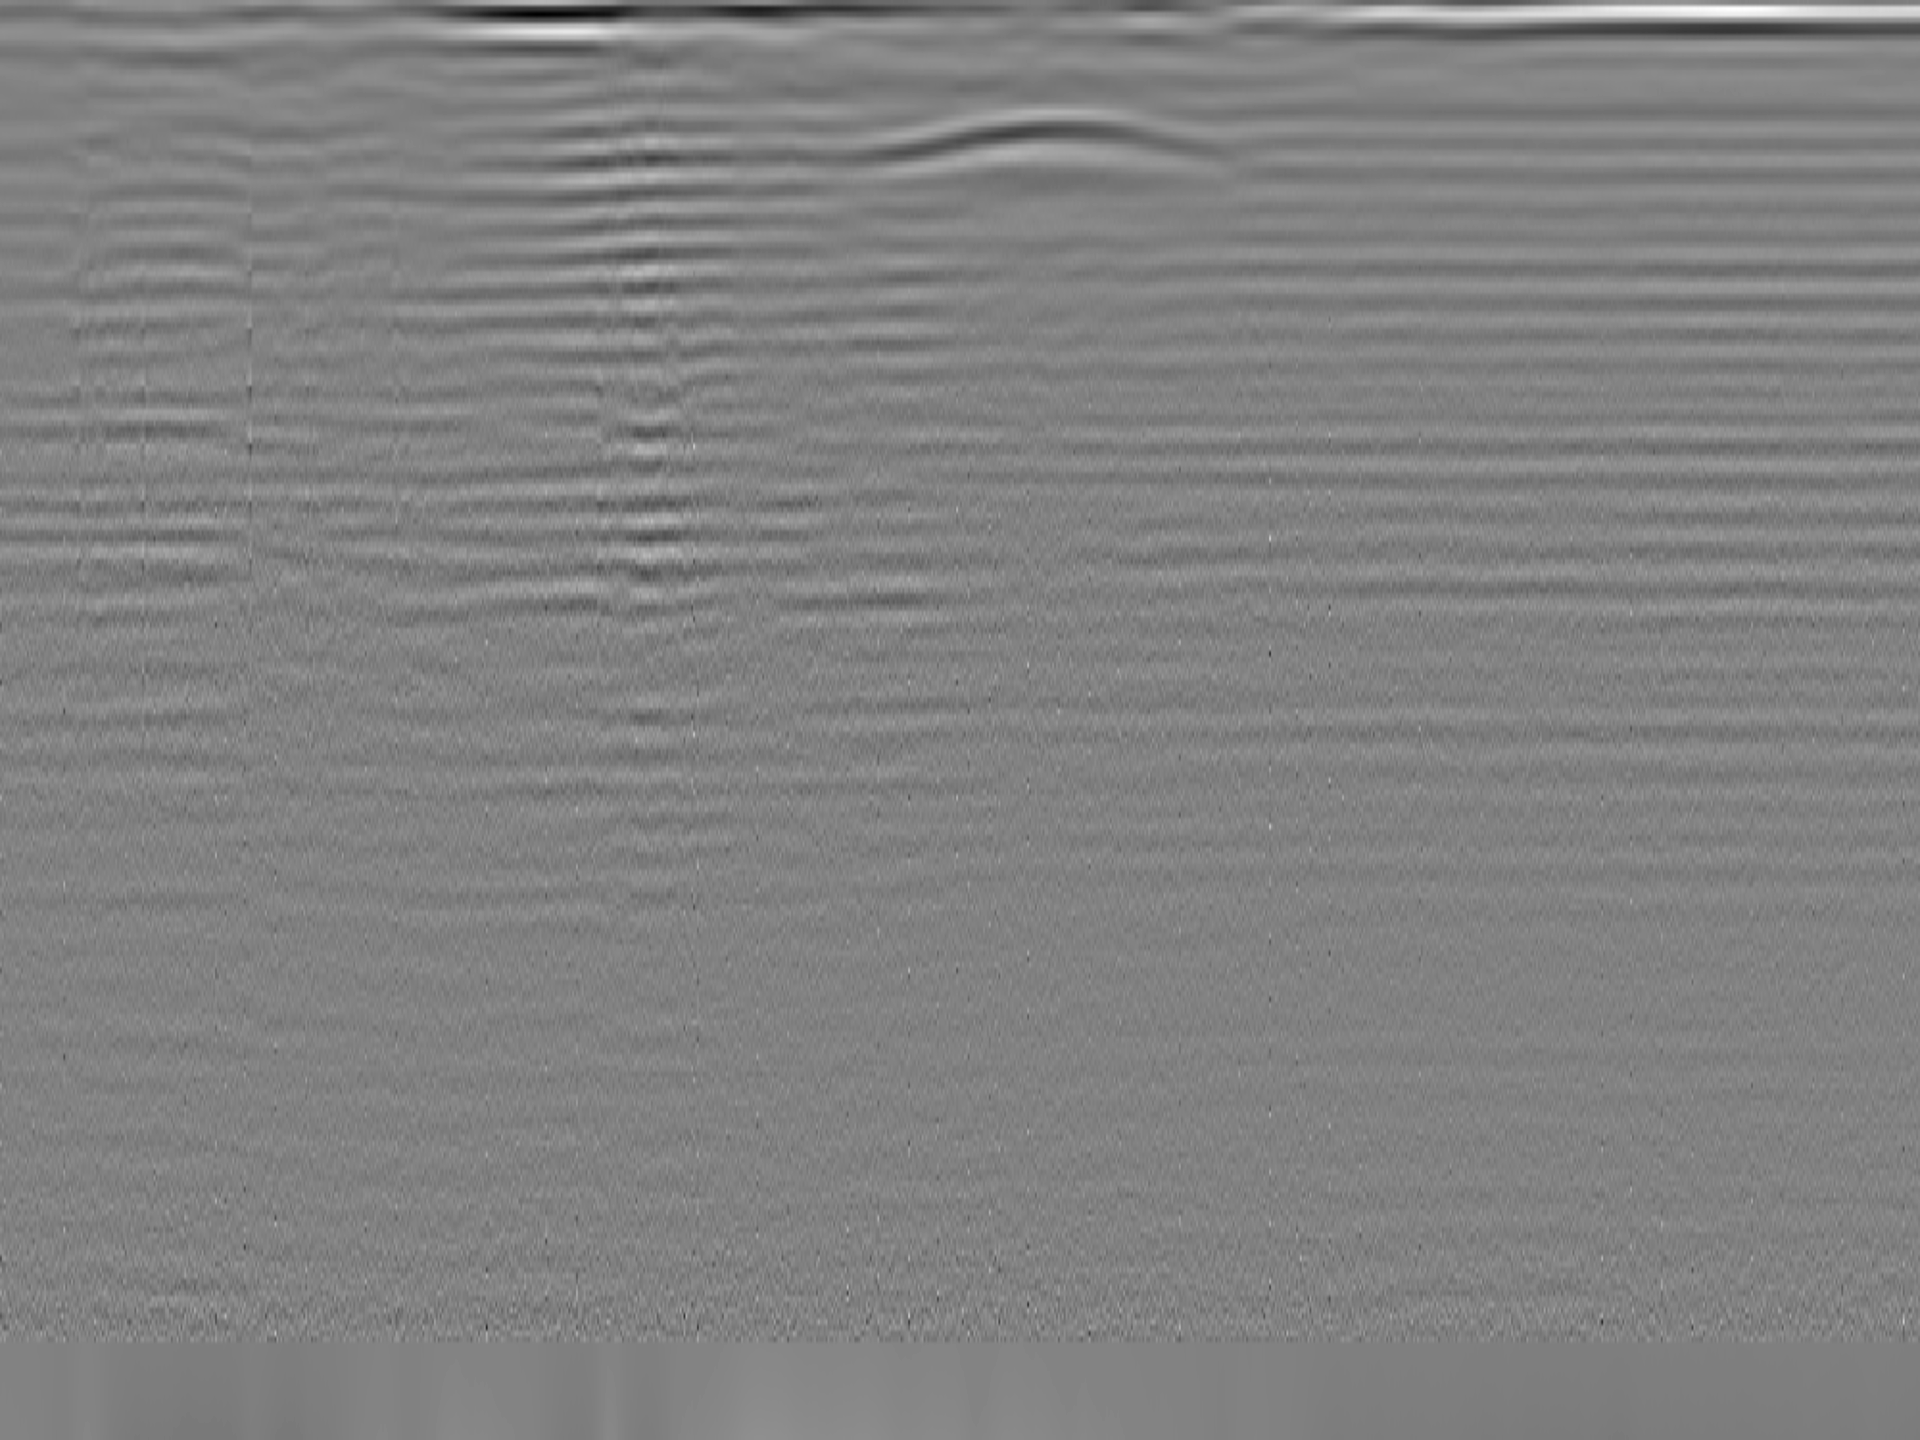Tunnel: (838, 112, 1279, 175)
